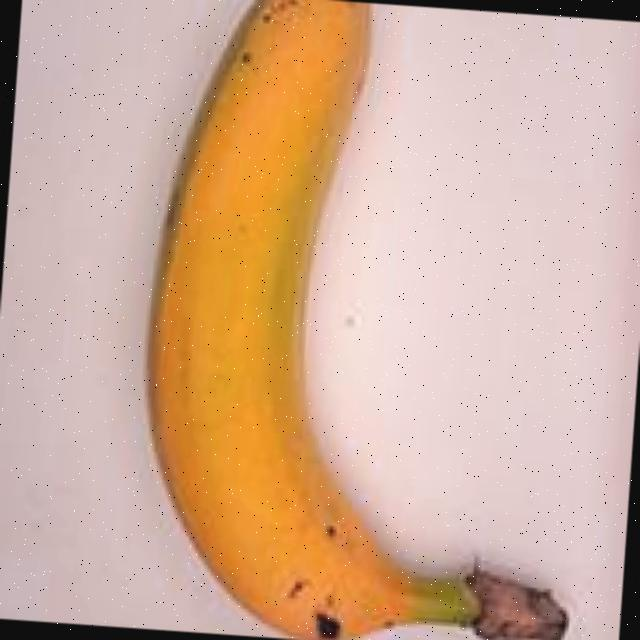Ripe: (118, 0, 621, 640)
